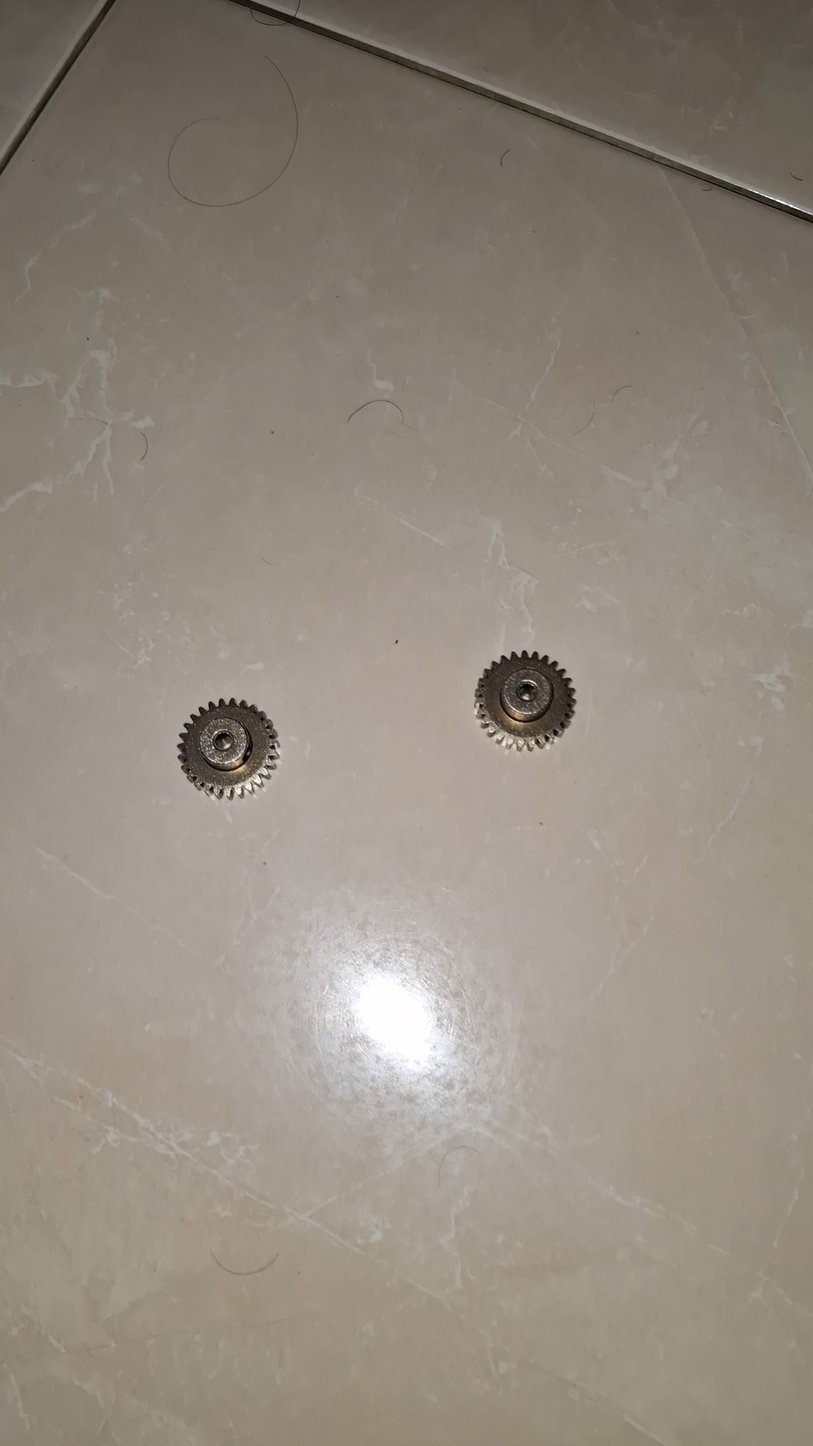spur gear: (179, 699, 278, 799), (475, 651, 575, 750)
